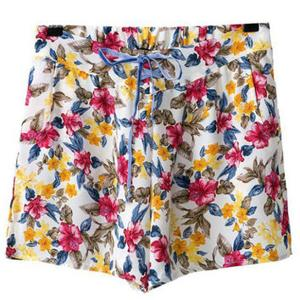C_shorts: (7, 14, 293, 291)
